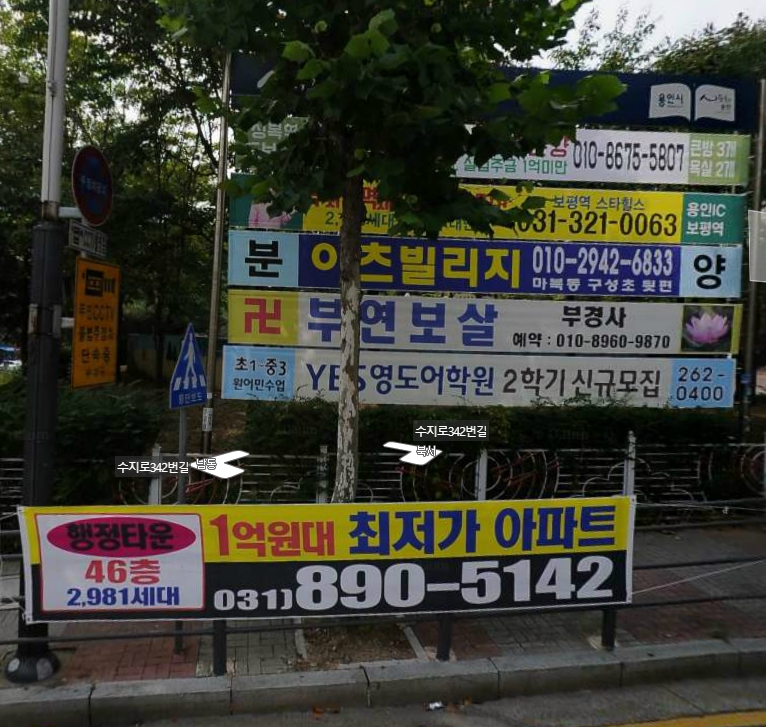banner: (18, 489, 638, 619), (224, 102, 749, 196), (228, 168, 750, 250), (218, 225, 752, 302), (223, 288, 742, 362), (212, 339, 741, 409)
